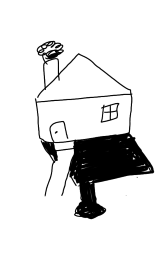closed_window: (96, 101, 123, 123)
door: (47, 116, 73, 143)
roof: (32, 52, 135, 103)
shadow: (39, 133, 156, 222)
smoking_chimney: (33, 34, 68, 89)
wall: (25, 92, 142, 143)
